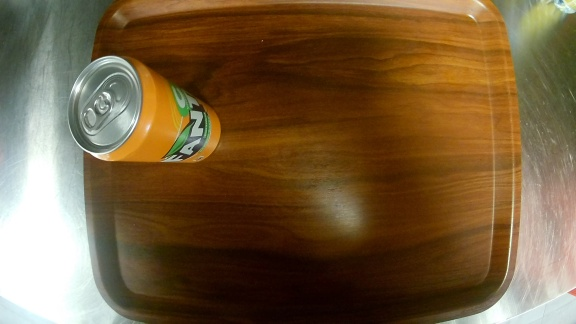kutufanta: (67, 53, 223, 172)
